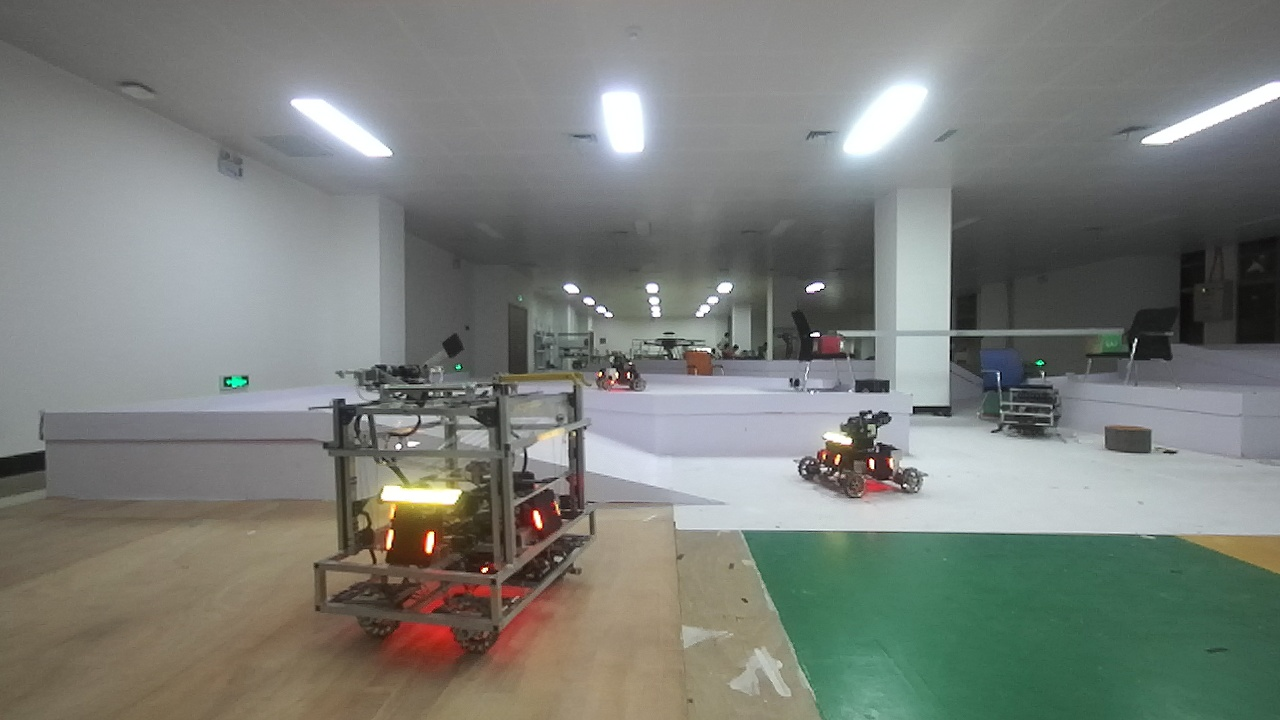car: (318, 385, 598, 655), (782, 403, 955, 518), (588, 347, 659, 401)
